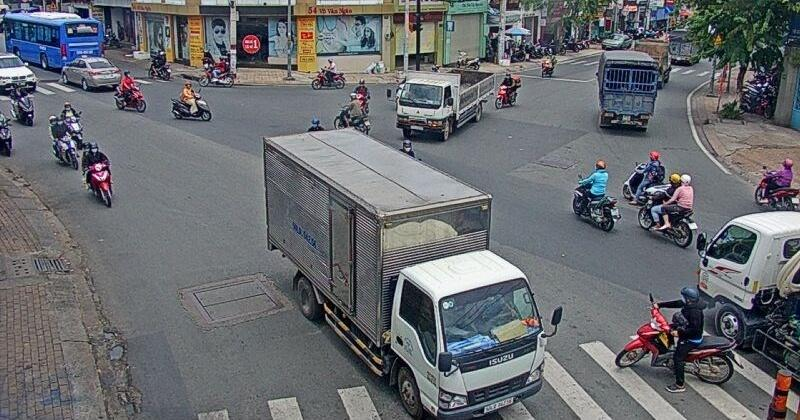xe may: (619, 287, 743, 394), (639, 169, 694, 247), (570, 158, 619, 229), (83, 150, 115, 209), (45, 116, 77, 169), (171, 81, 209, 122), (112, 71, 145, 112)
xe tai: (266, 120, 552, 415), (393, 67, 491, 140), (598, 50, 657, 139)
